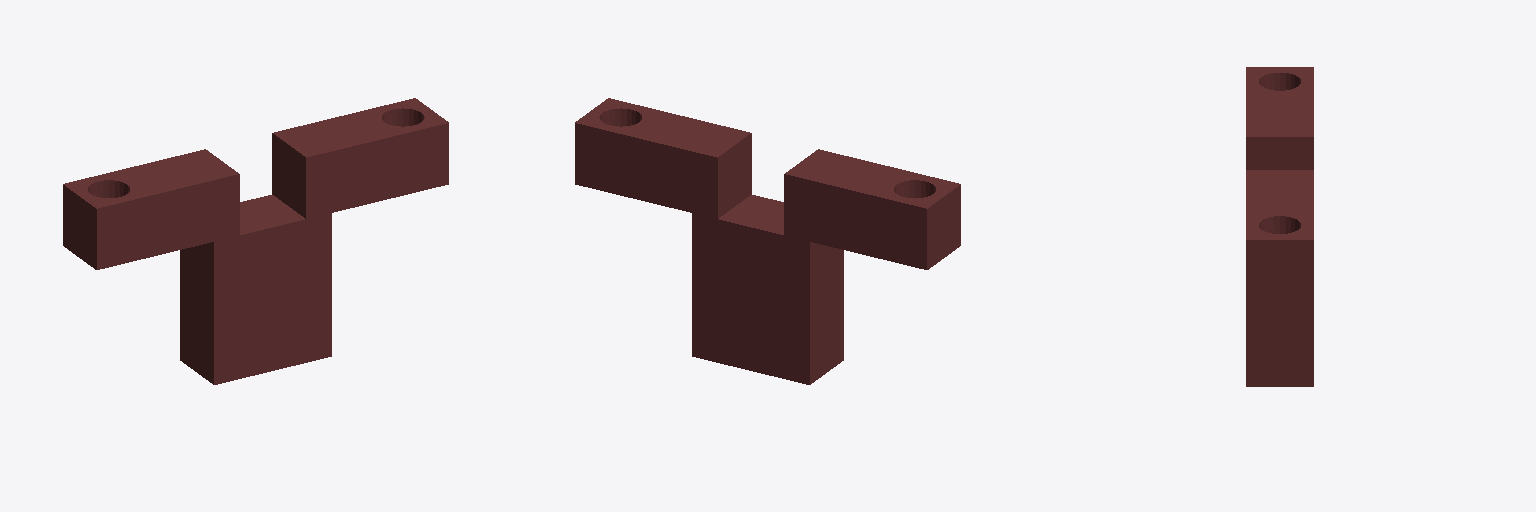
The model's file is inverted_u_brown.obj.
The picture shows the model from 3 angles: view 1: azimuth 30°, elevation 25°; view 2: azimuth 150°, elevation 25°; view 3: azimuth 270°, elevation 25°; orthographic projection.
Parts seen in each view (by area): view 1: Body1; view 2: Body1; view 3: Body1.
Boxes of the visible parts, <box> form: Body1: <box>63,98,448,384</box>; Body1: <box>575,98,960,384</box>; Body1: <box>1246,67,1313,386</box>.
Bounding box in the file's own units: 12.6 × 7 × 2.1.